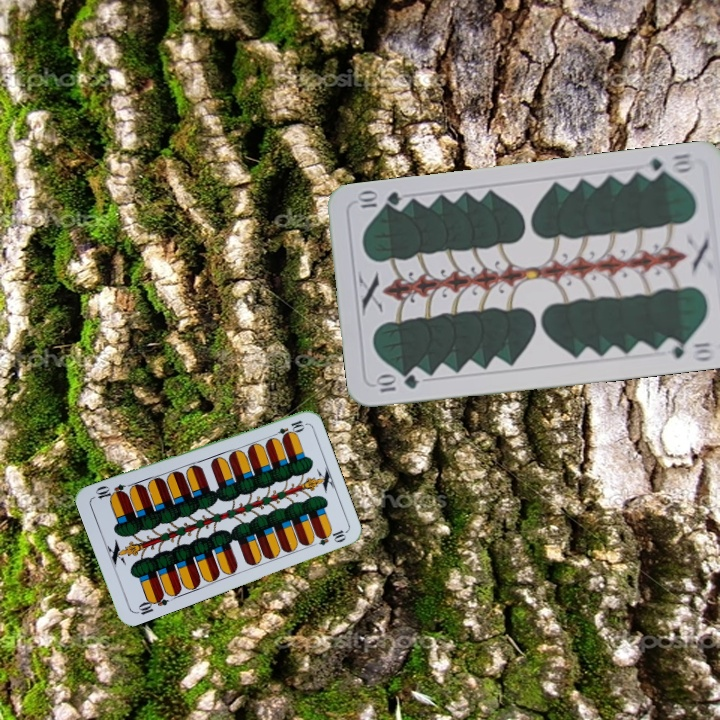E10: (132, 590, 171, 617), (267, 416, 307, 441)
G10: (638, 149, 697, 181), (372, 370, 421, 395)
